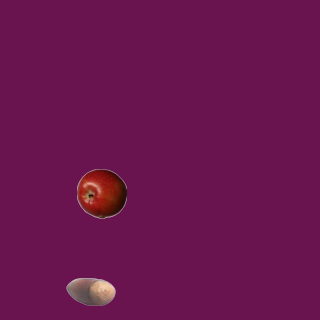Apple Braeburn: (76, 168, 126, 218)
Hazelnut: (65, 266, 115, 316)
